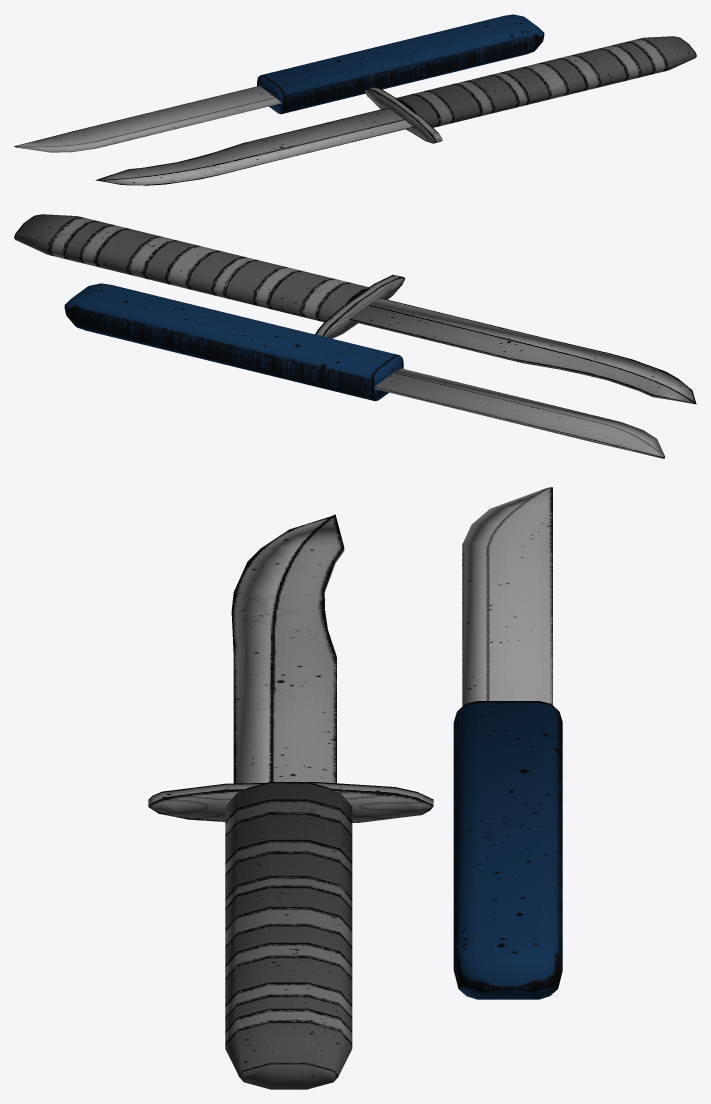
Rendered from Stone.gltf.
3 views of the same model, one above another, from view 1: azimuth 30°, elevation 25°; view 2: azimuth 150°, elevation 25°; view 3: azimuth 270°, elevation 25° (orthographic). The views are drawn at different scales.
Visible parts, largest first — view 1: Knife, KitchenKnife; view 2: Knife, KitchenKnife; view 3: Knife, KitchenKnife.
Boxes of the visible parts, left/top/right/bottom form: Knife: left=95, top=36, right=696, bottom=185; KitchenKnife: left=14, top=14, right=544, bottom=152; Knife: left=14, top=214, right=696, bottom=404; KitchenKnife: left=64, top=283, right=664, bottom=458; Knife: left=148, top=514, right=433, bottom=1089; KitchenKnife: left=453, top=487, right=562, bottom=999.
Bounding box in the file's own units: 9.8 × 0.4054 × 2.91.
2 materials, 2 textured.
